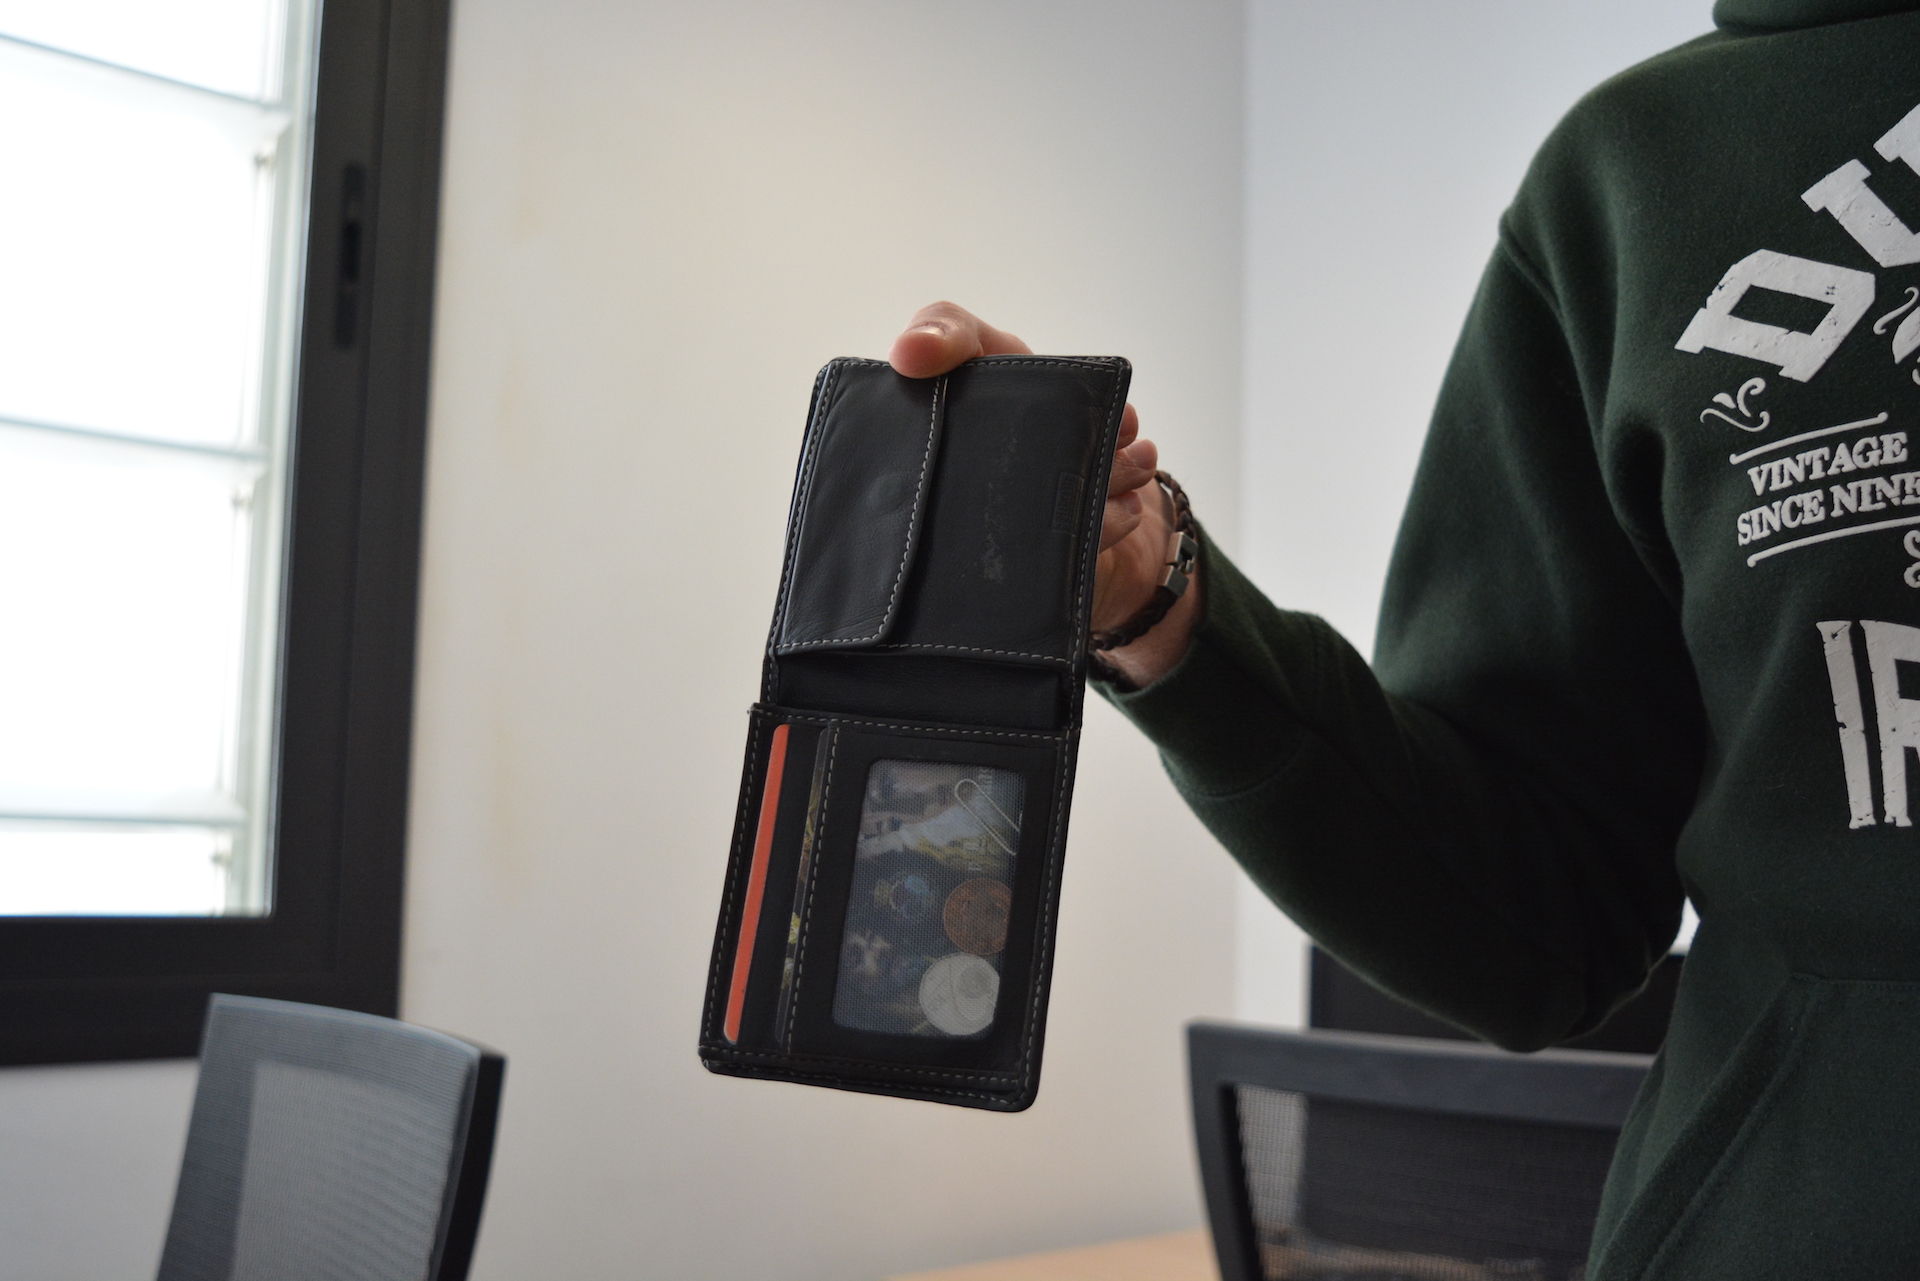monedero: (693, 350, 1138, 1117)
